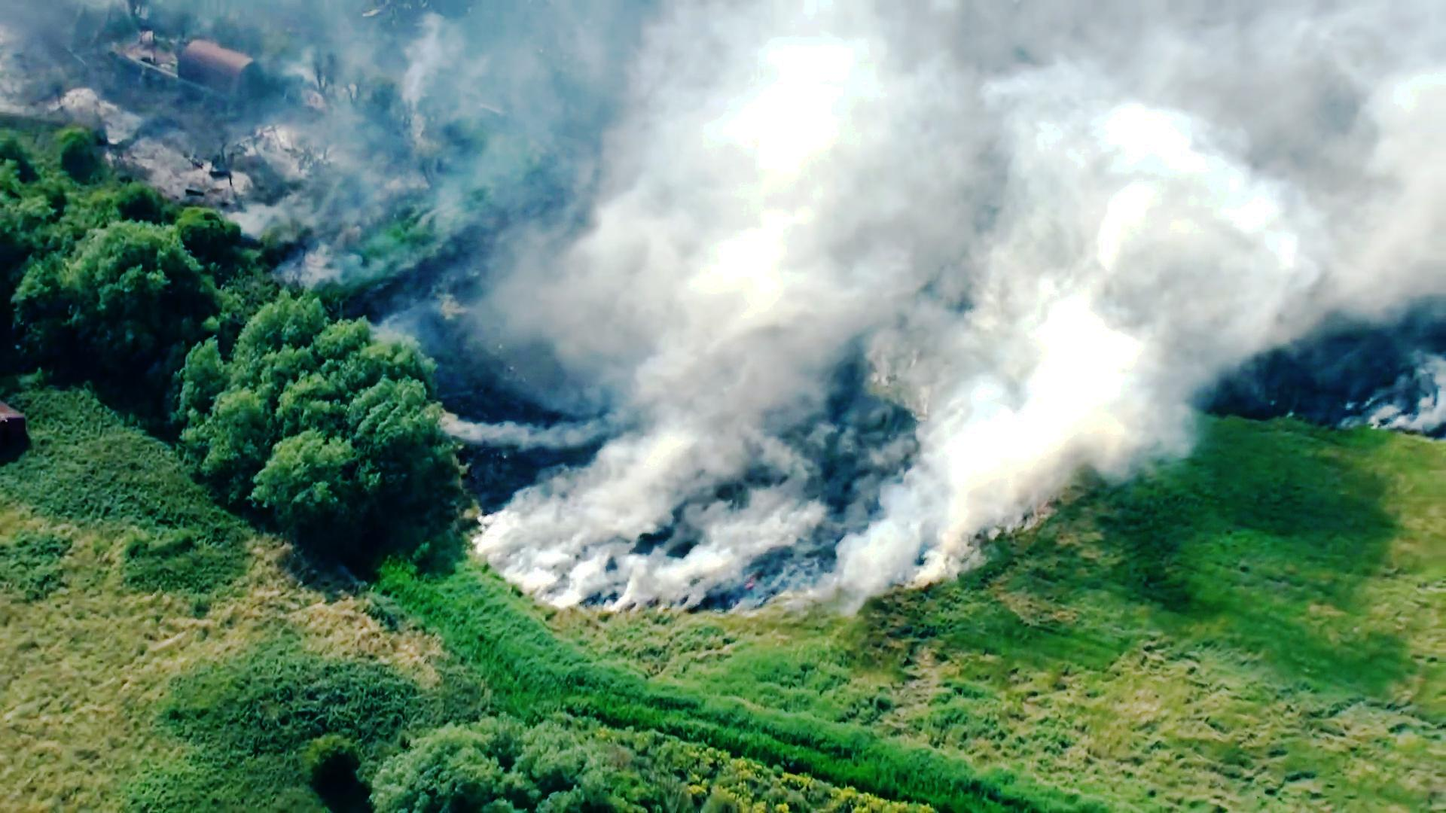smoke: (582, 15, 954, 356), (910, 81, 1360, 353)
